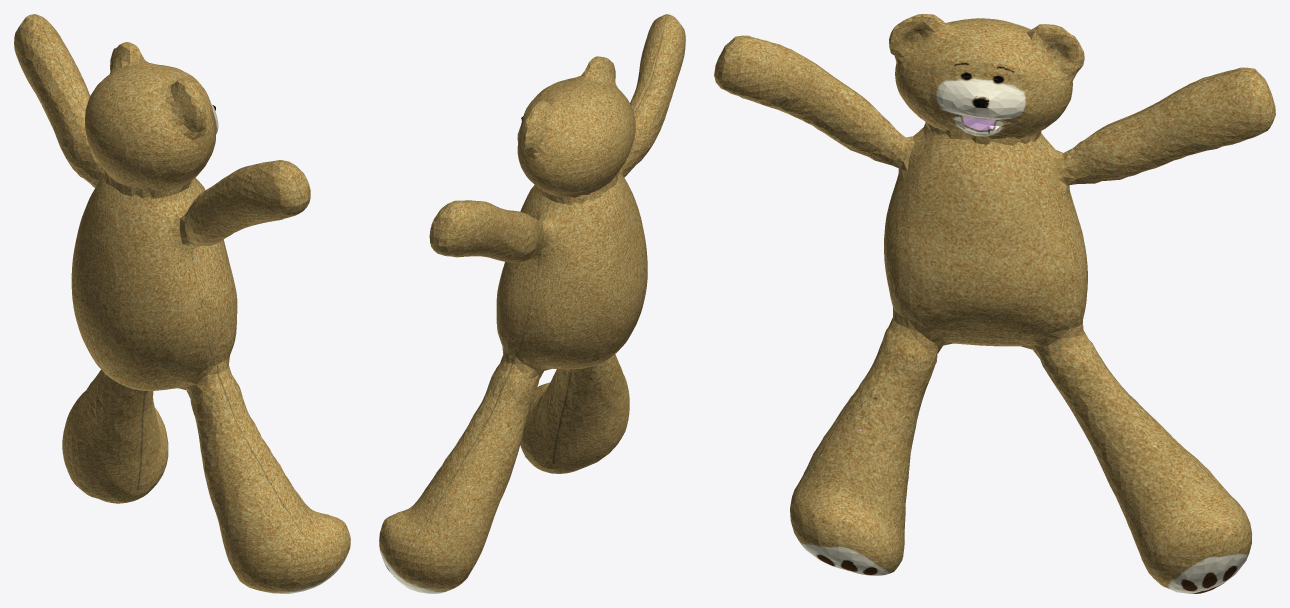
File: teddy_aug_2.obj
The picture shows the model from 3 angles, left to right: view 1: azimuth 30°, elevation 25°; view 2: azimuth 150°, elevation 25°; view 3: azimuth 270°, elevation 25°; orthographic projection. The views are drawn at different scales.
Bounding box in the file's own units: 40.47 × 108 × 101.
Materials: 1 (1 with a texture image).
